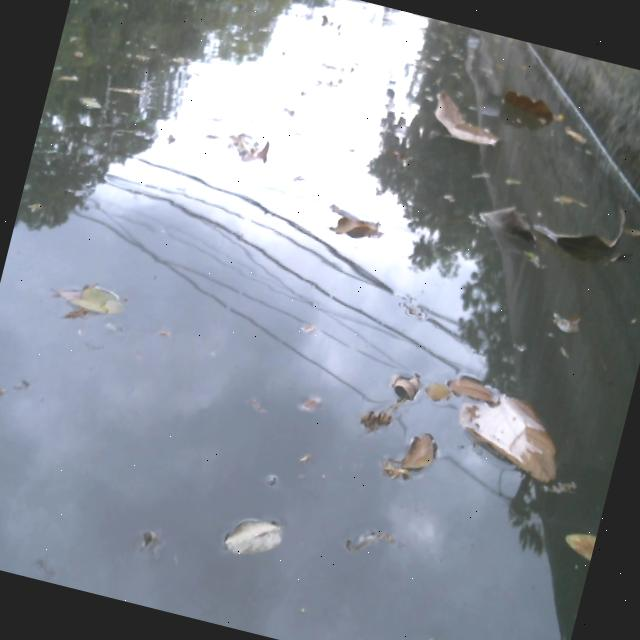Big-leaf: (441, 371, 583, 495), (532, 190, 634, 275), (415, 80, 514, 156), (472, 196, 546, 252), (494, 77, 560, 130), (220, 123, 276, 179), (325, 203, 387, 252)
Small-leaf: (50, 271, 137, 329), (217, 505, 295, 569), (378, 421, 445, 492), (443, 362, 498, 409), (559, 521, 598, 572), (388, 365, 426, 406), (546, 307, 586, 342), (423, 371, 457, 408), (294, 387, 328, 422), (292, 307, 324, 339), (558, 117, 590, 146)
